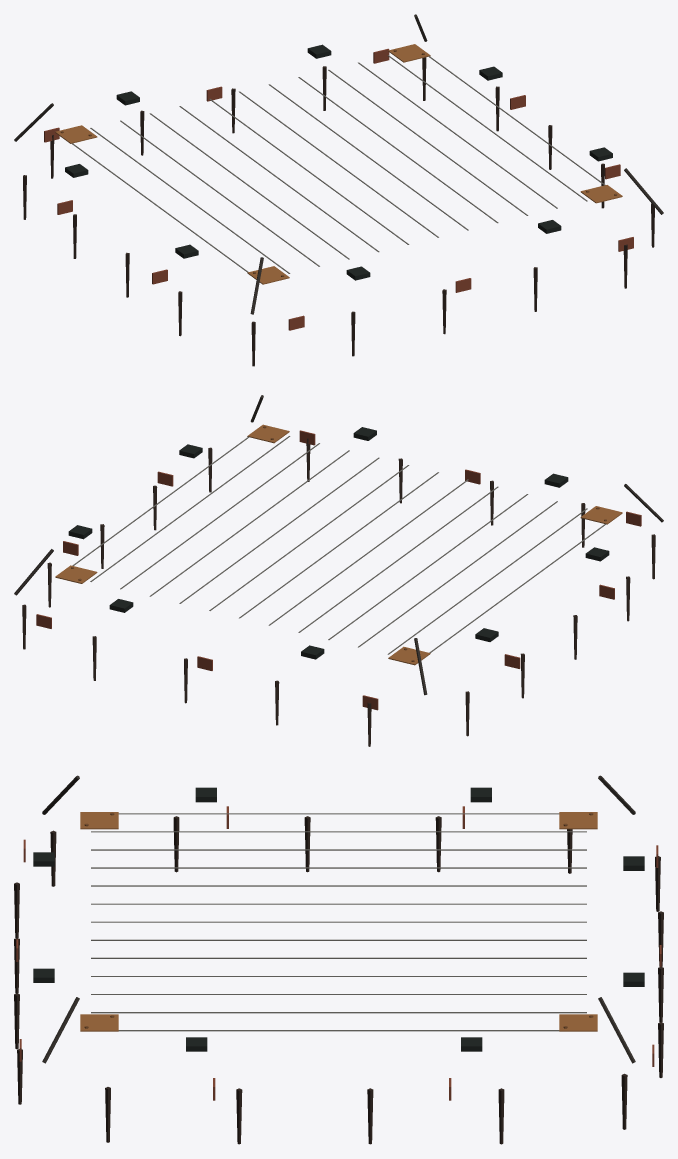
File: barge_detail2.glb
3 views of the same model, one above another, from view 1: azimuth 30°, elevation 25°; view 2: azimuth 150°, elevation 25°; view 3: azimuth 270°, elevation 25° (orthographic). The views are drawn at different scales.
Parts seen in each view (by area): view 1: barge_detail2.001; view 2: barge_detail2.001; view 3: barge_detail2.001.
Boxes of the visible parts, x1,y1,x2,y2 form: barge_detail2.001: [14, 14, 663, 366]; barge_detail2.001: [14, 395, 663, 746]; barge_detail2.001: [14, 775, 663, 1144].
Bounding box in the file's own units: 15.54 × 3.13 × 15.2.
